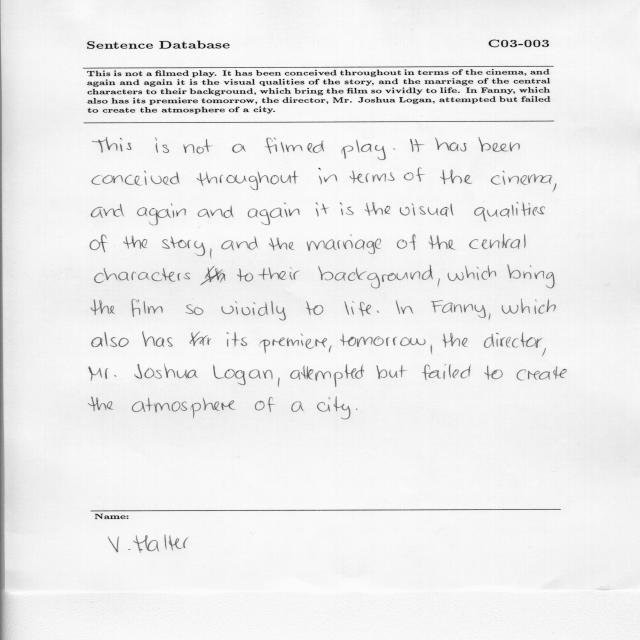word: (318, 265, 433, 288), (95, 266, 226, 285), (132, 398, 236, 419), (196, 171, 298, 190), (290, 364, 364, 387), (307, 234, 381, 254), (260, 334, 332, 353), (474, 202, 545, 221), (92, 171, 179, 186), (221, 301, 286, 321), (213, 365, 273, 385), (340, 333, 425, 347), (248, 203, 300, 225), (508, 265, 555, 288), (137, 204, 186, 225), (430, 300, 486, 318), (265, 137, 324, 154), (134, 364, 198, 379), (190, 331, 247, 347), (341, 140, 386, 160), (484, 333, 542, 348), (162, 236, 205, 256), (469, 234, 526, 249), (491, 171, 552, 185), (502, 299, 556, 314), (422, 364, 471, 380), (317, 396, 350, 419), (517, 366, 567, 381), (448, 266, 496, 281), (400, 204, 453, 217), (478, 137, 520, 152), (93, 137, 132, 153), (131, 299, 163, 317), (91, 332, 129, 347), (350, 171, 395, 183), (259, 267, 300, 280), (221, 237, 258, 251), (435, 137, 467, 152), (198, 205, 234, 218), (142, 332, 173, 347), (440, 170, 473, 184), (92, 204, 125, 218), (184, 139, 213, 154), (377, 365, 406, 379), (429, 235, 456, 250), (345, 301, 372, 316), (89, 366, 116, 381), (91, 299, 115, 315), (443, 333, 468, 348), (89, 396, 114, 411), (365, 202, 390, 216), (269, 237, 294, 251), (123, 236, 147, 249), (90, 235, 107, 253), (318, 168, 337, 184), (397, 235, 416, 251), (255, 397, 275, 412), (404, 168, 425, 182), (484, 365, 503, 380), (306, 301, 323, 315), (237, 268, 253, 282), (396, 301, 413, 314), (156, 138, 169, 153), (316, 202, 329, 217), (410, 139, 424, 152), (340, 203, 354, 216), (186, 305, 204, 315), (291, 401, 304, 412), (232, 144, 246, 153), (553, 183, 557, 192), (542, 348, 546, 356), (278, 377, 280, 387), (438, 278, 440, 287), (489, 313, 491, 320), (210, 248, 211, 258), (431, 345, 432, 354), (377, 311, 379, 313), (393, 149, 395, 150), (356, 408, 357, 410)
